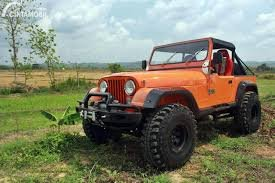mobil: (81, 37, 266, 168)
